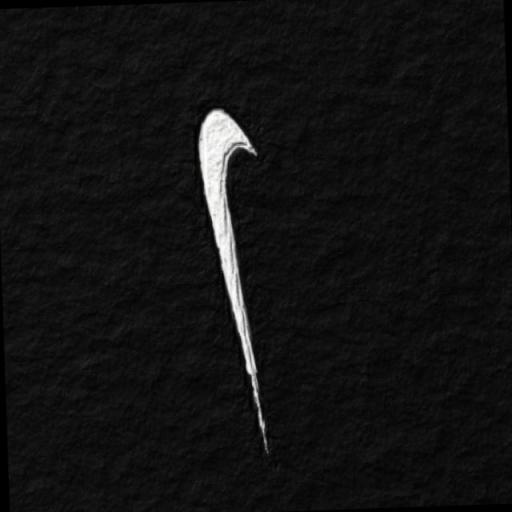Nike: (186, 86, 275, 474)
